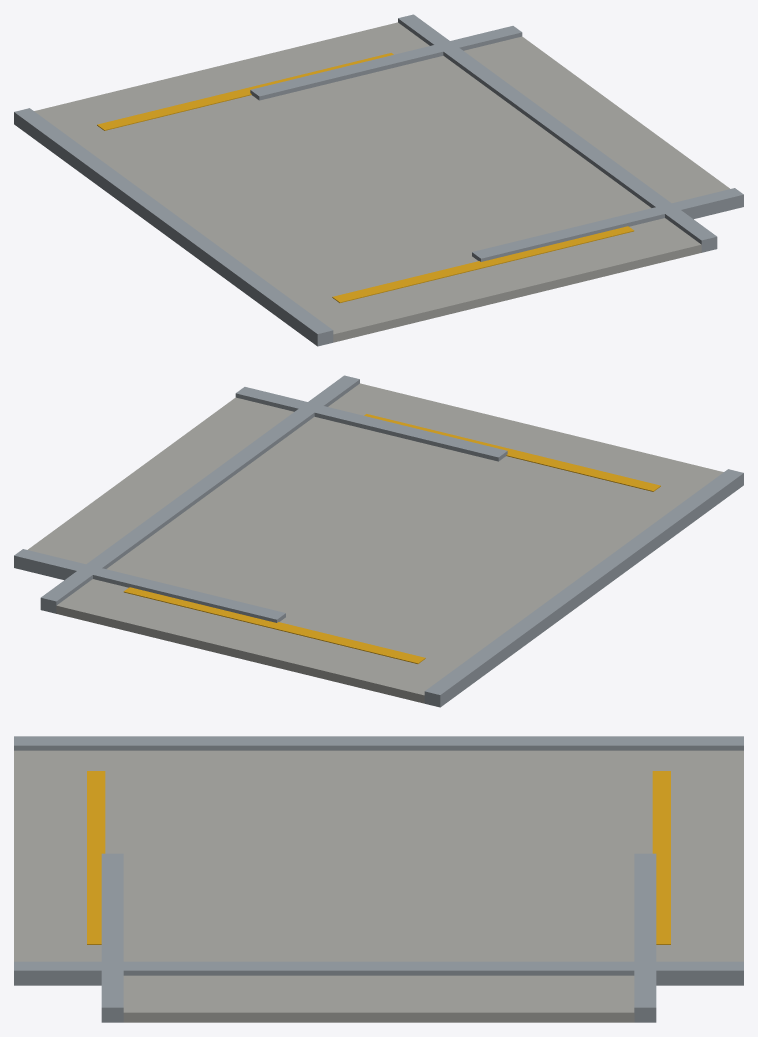
The model's file is road_industrial_viii_tee.glb.
The picture shows the model from 3 angles, top to bottom: view 1: azimuth 30°, elevation 25°; view 2: azimuth 150°, elevation 25°; view 3: azimuth 270°, elevation 25°; orthographic projection. The views are drawn at different scales.
Visible parts, largest first — view 1: body; view 2: body; view 3: body.
Part boxes in pixels (x1,y1,x2,y2): body: [14, 14, 743, 346]; body: [14, 375, 743, 707]; body: [14, 736, 743, 1022].
Size of what is drawn, in the model's own units: 7.04 by 0.18 by 8.
